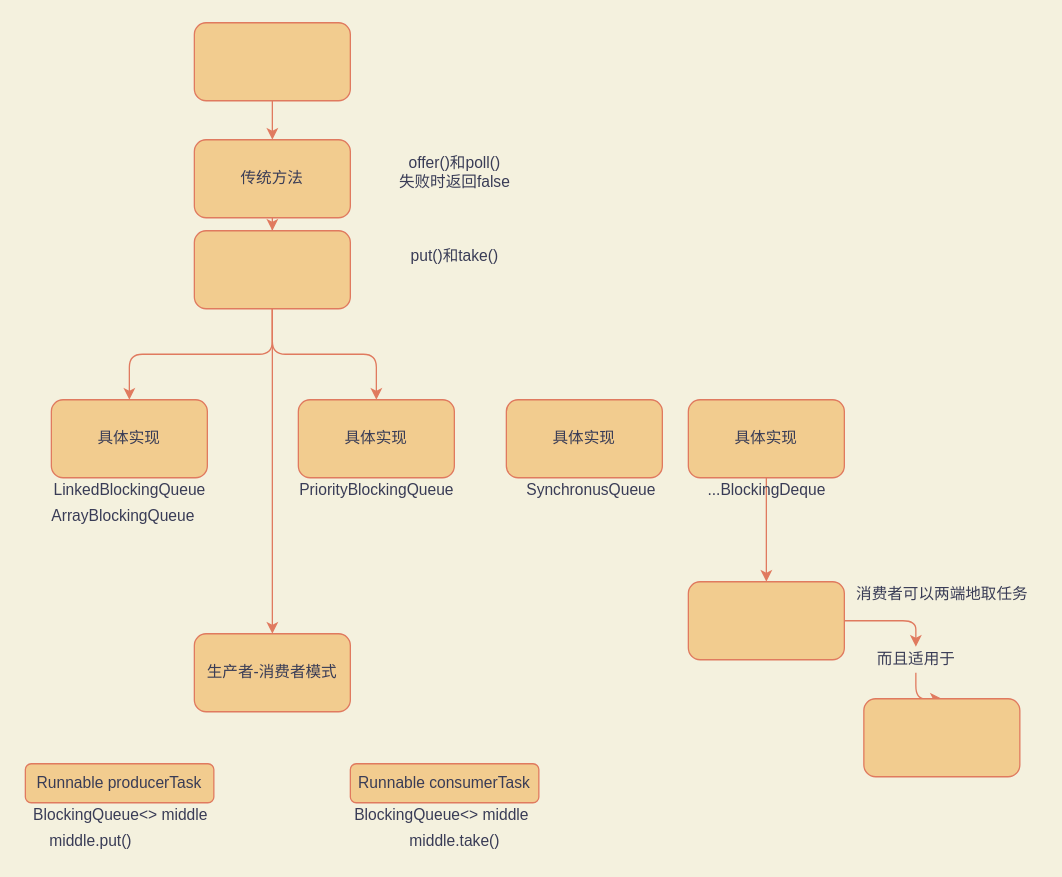
The diagram is 1062 pixels wide and 877 high, and some of its shapes have lost their labels. Here are the shapes that lost their labels. From the top down, the centre of each, then its label:
At point 271,61: "BlockingQueue".
At point 271,269: "阻塞方法".
At point 765,620: "Work Stealing模式".
At point 941,737: "既是生产者又是消费者问题".
